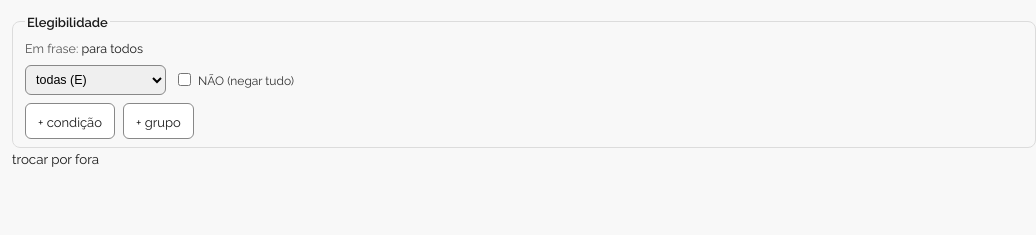
Test: ConditionBuilder — acolhimento (módulo 18) › CIAP-2 por códigos digitados, em maiúsculas e sem repetir
Click the button "+ condição". click: (70, 121)
box: [25,103,115,139]
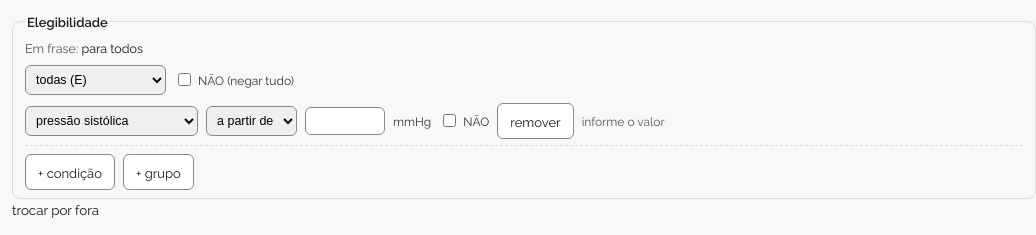
Select "queixa (CIAP-2)" in the dropdown named "campo". click: (112, 121)
box: [25,106,198,136]
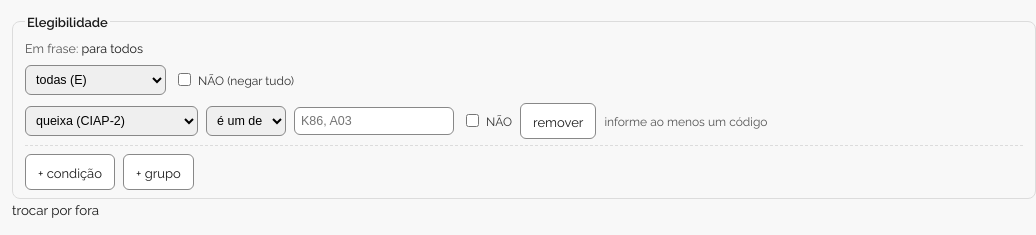
Type "k86, A03 k86" into the field with placeholder "K86, A03". click: (374, 121)
box: [294,107,454,135]
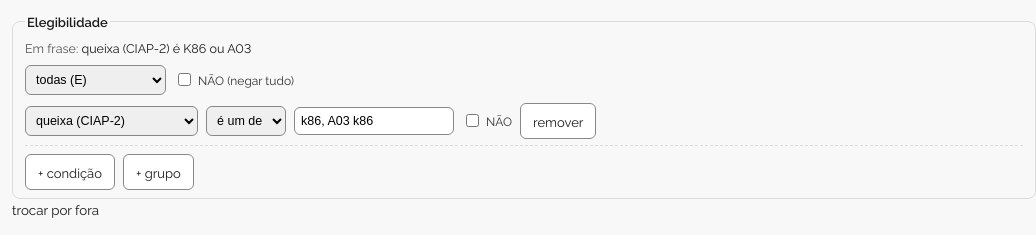
Result: the text "queixa (CIAP-2) é K86 ou A03" is shown at [81,39,251,56]
